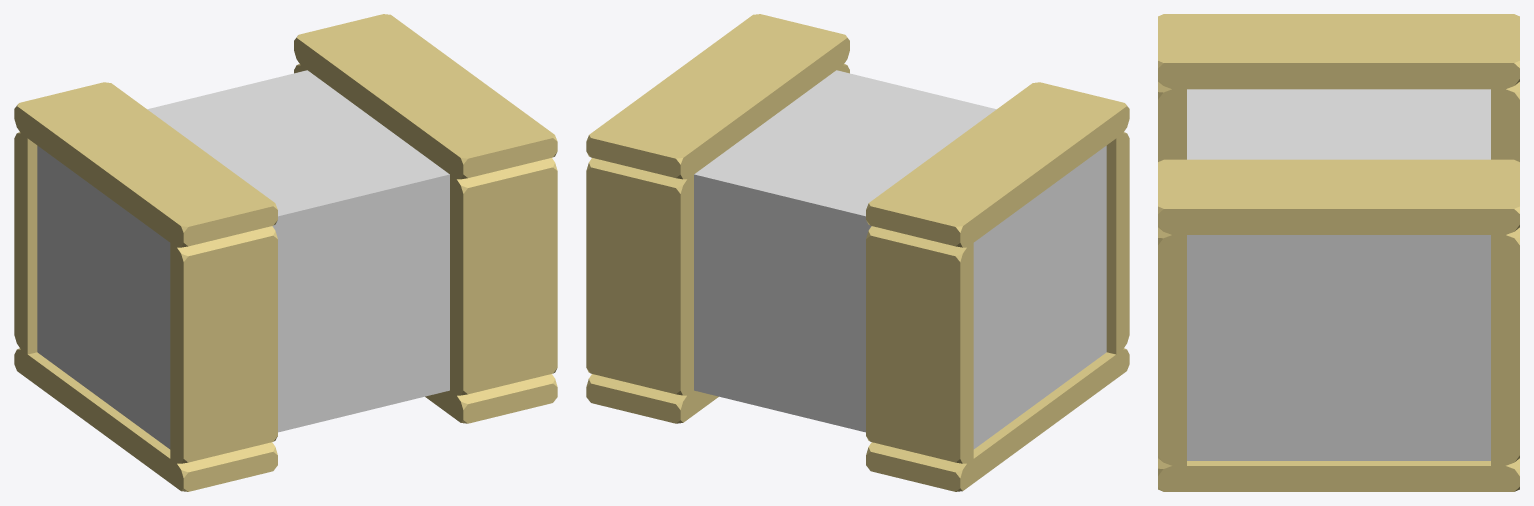
The model's file is SM_Crate_Small.fbx.
3 views of the same model, side by side, from view 1: azimuth 30°, elevation 25°; view 2: azimuth 150°, elevation 25°; view 3: azimuth 270°, elevation 25° (orthographic). The views are drawn at different scales.
Parts seen in each view (by area): view 1: Cube; view 2: Cube; view 3: Cube.
Part boxes in pixels (<box>): Cube: <box>14,14,557,491</box>; Cube: <box>586,14,1129,491</box>; Cube: <box>1158,14,1519,491</box>.
Bounding box in the file's own units: 79.3 × 53.7 × 62.22.
